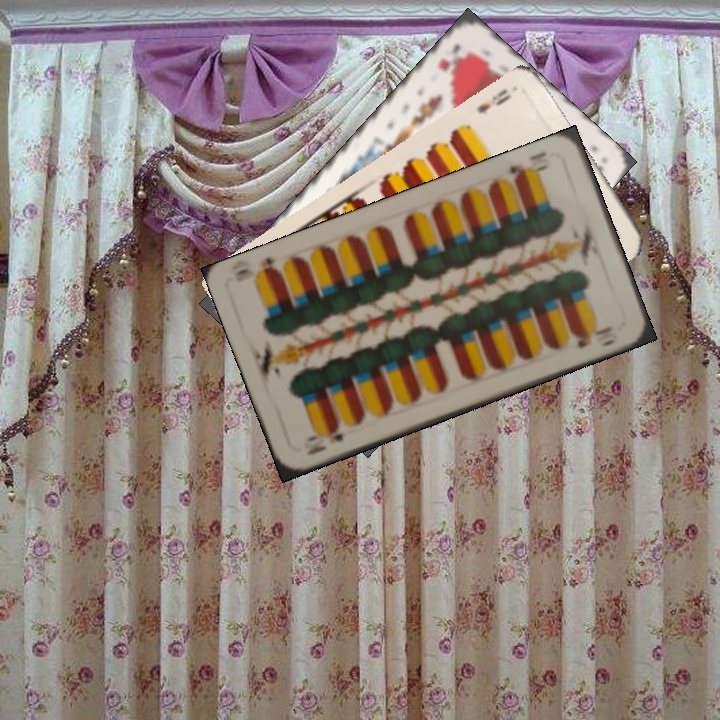E10: (299, 423, 349, 458), (505, 160, 552, 185)
E9: (473, 84, 514, 118)
HK: (434, 39, 474, 76)
